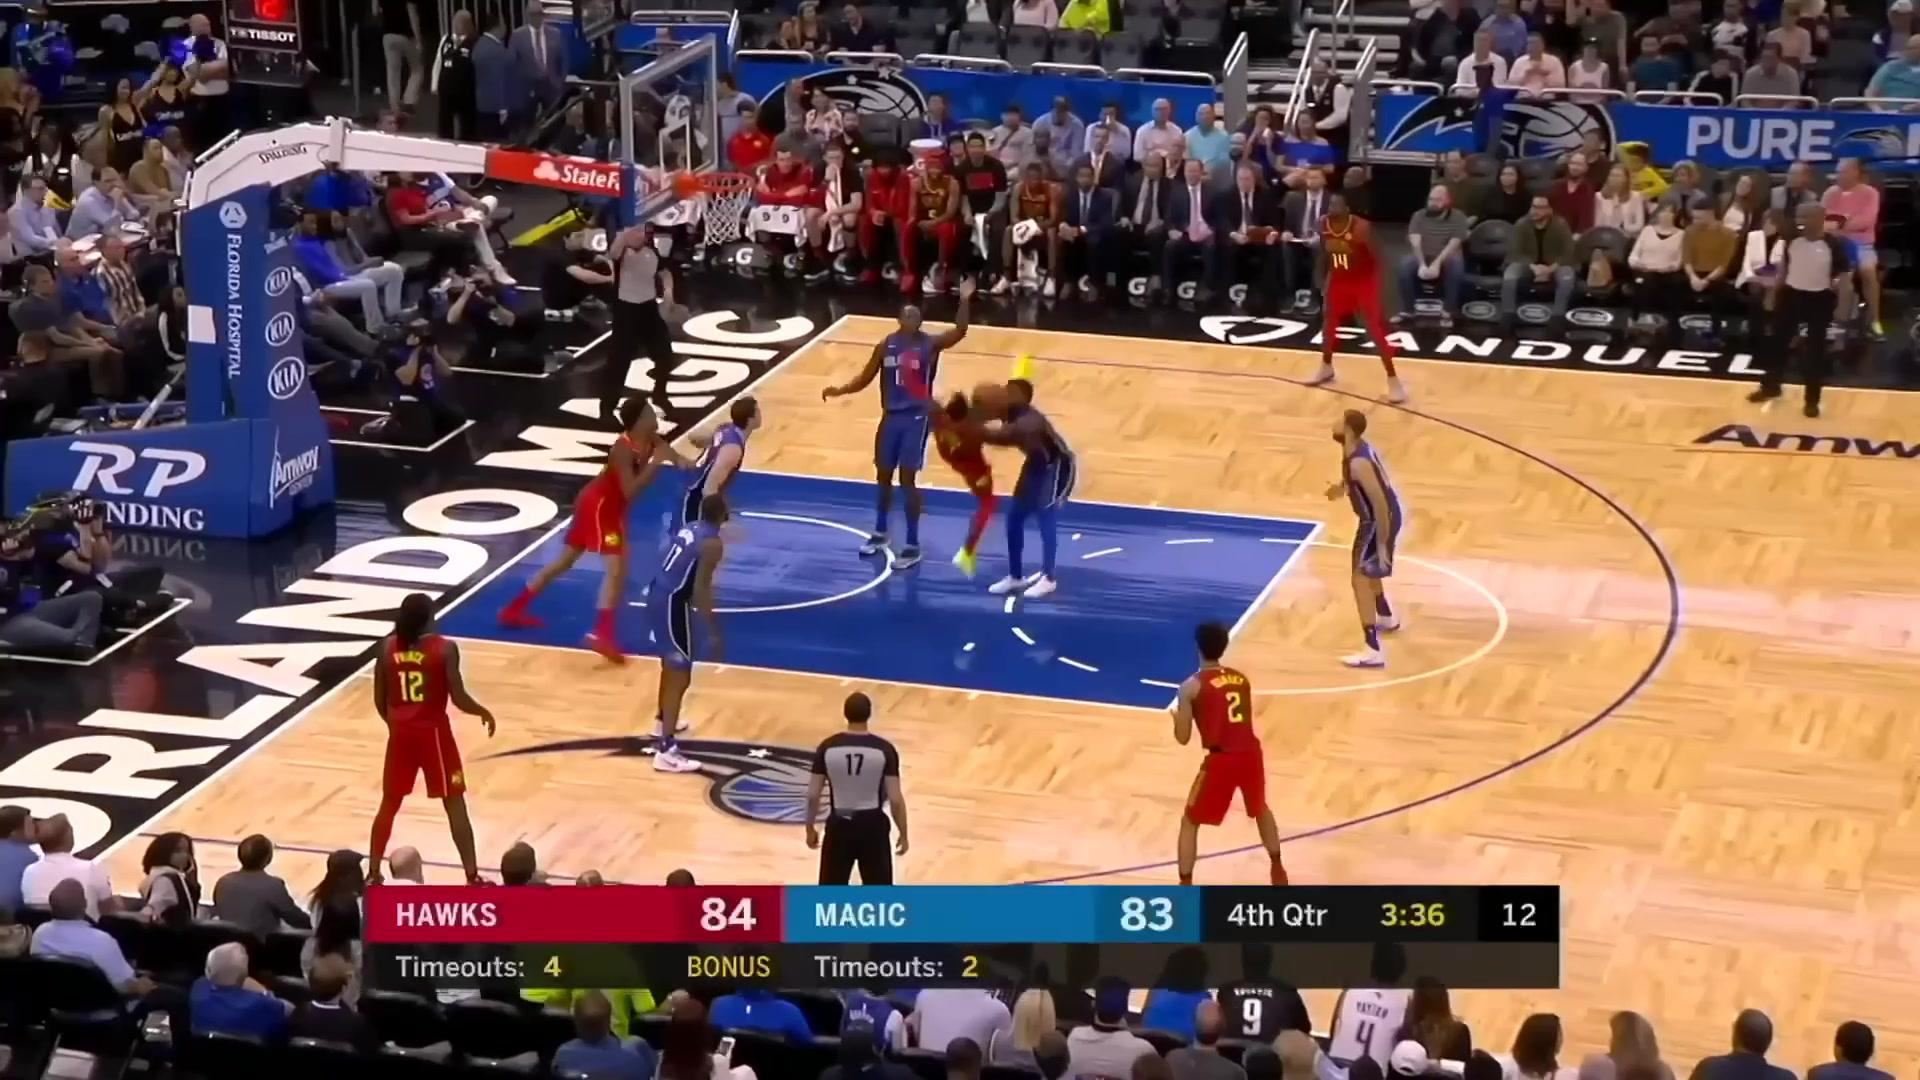foul: (884, 345, 1093, 616)
